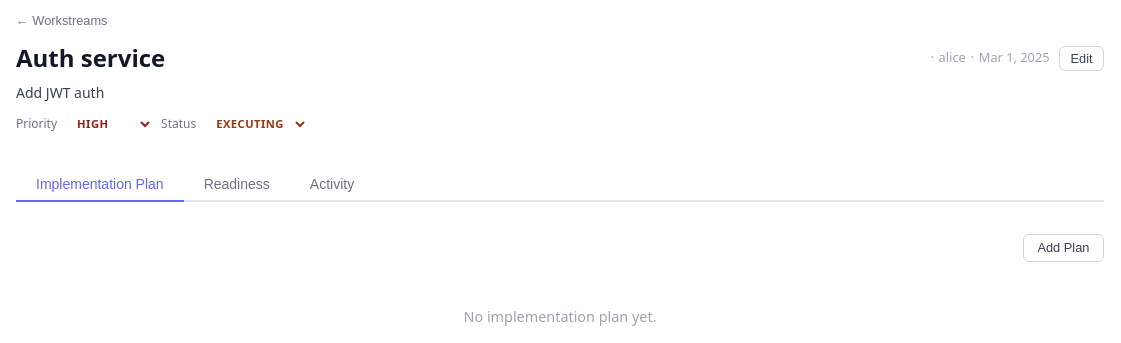
it: WorkstreamDetailView › shows unavailable message when there is no plan
Step 1. Click the button with class "tab-btn" showing "Readiness" → (237,185), box [184,168,290,202]
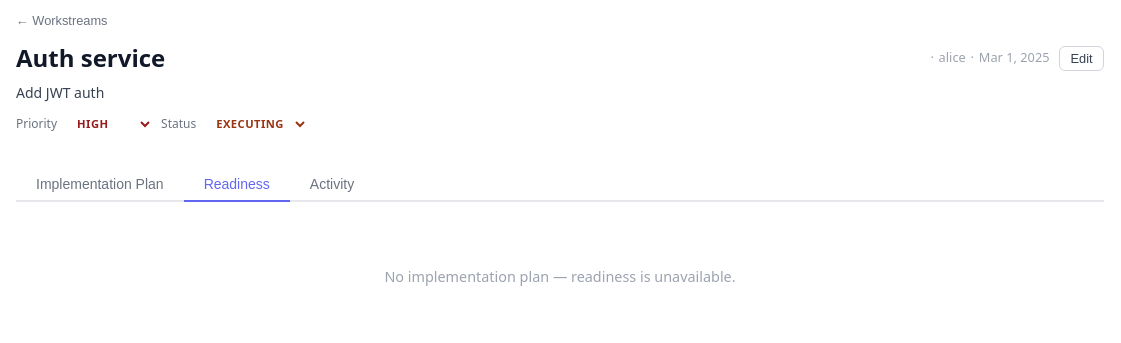
Expected: the text "unavailable" is shown, [384,267,736,286]
